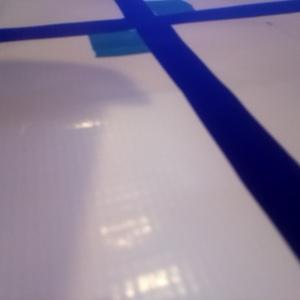bottom_left: (87, 21, 170, 56)
top_right: (124, 1, 195, 21)
